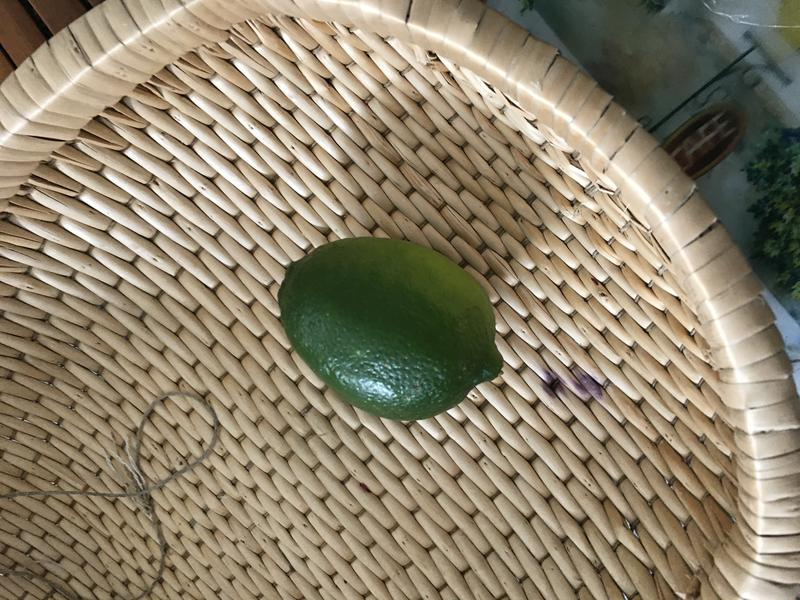lime: (257, 225, 517, 428)
